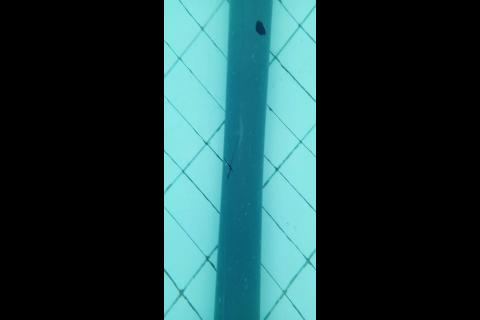kebocoran: (253, 19, 267, 37)
